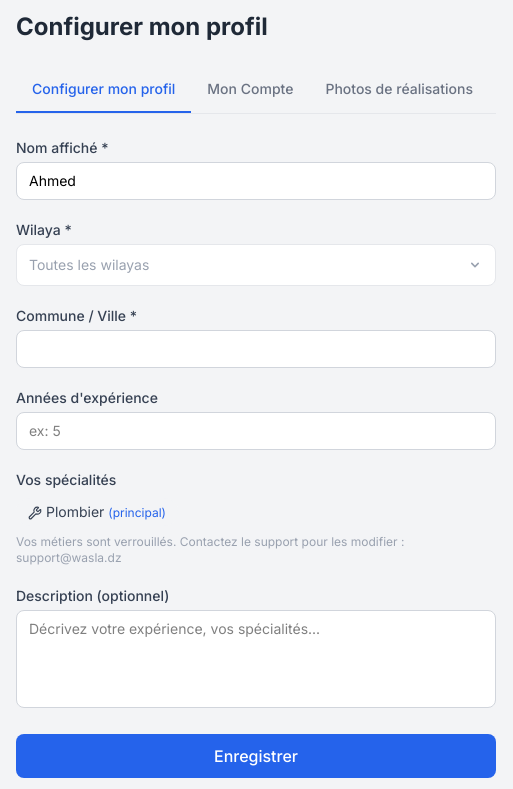
Test case: switches to the account tab and shows the password form
Click the tab "Mon Compte" at (250, 90), box [191,67,309,113]
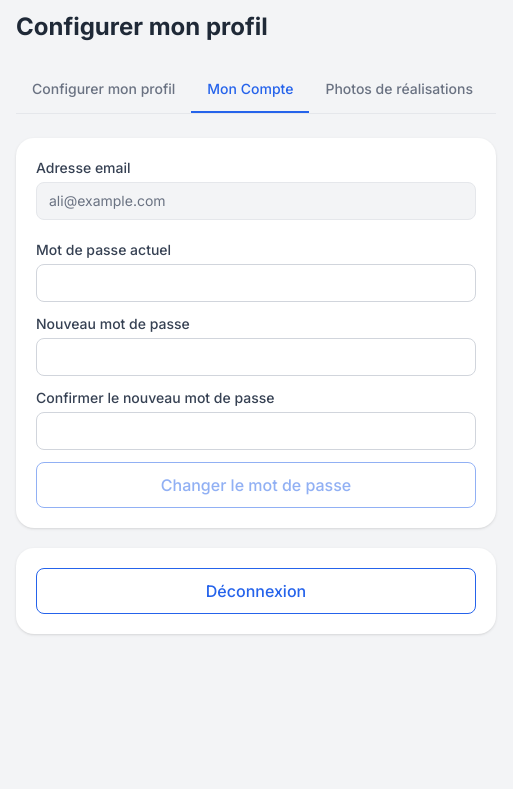
Result: the password field labelled "Mot de passe actuel" is shown at [36,264,476,302]
